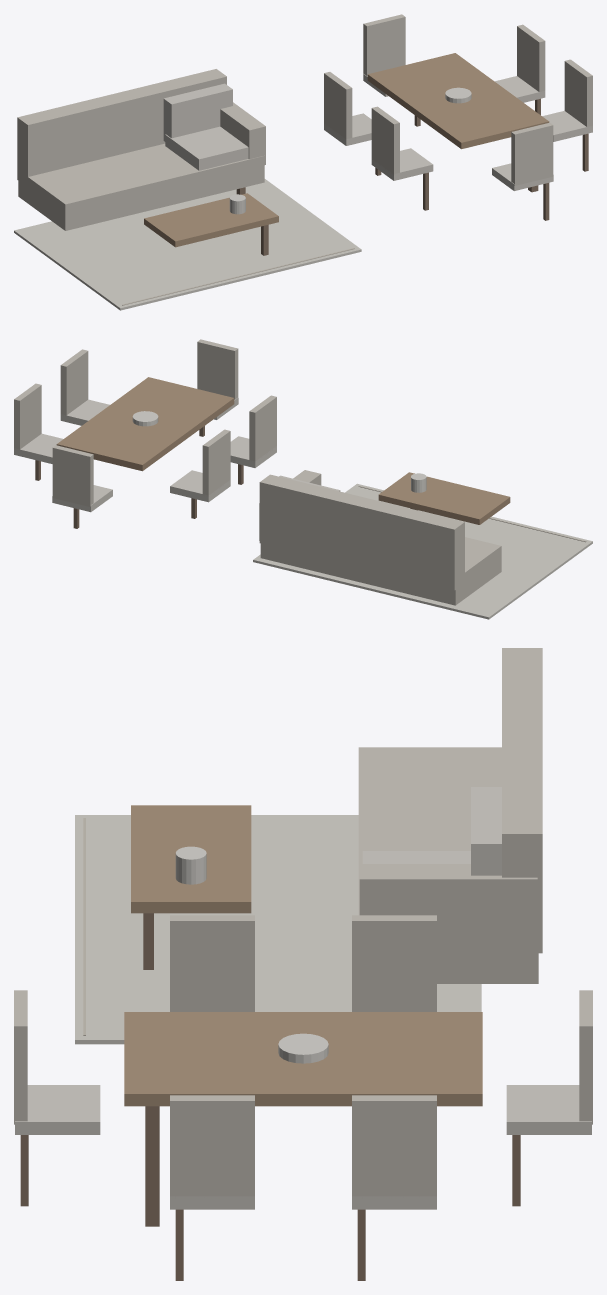
Rendered from living-dining.glb.
3 renders of one model, top to bottom at view 1: azimuth 30°, elevation 25°; view 2: azimuth 150°, elevation 25°; view 3: azimuth 270°, elevation 25°, orthographic. The views are drawn at different scales.
Parts seen in each view (by area): view 1: living rug, sofa base, sofa back, dining table top, coffee table top, sofa back cushion, sofa seat cushion, end near back, end far back, left1 back, left0 back, right1 back (+8 smaller); view 2: sofa back, dining table top, living rug, sofa base, coffee table top, end far back, end near back, left0 back, right1 back, left1 back, right0 back, left0 seat (+4 smaller); view 3: living rug, dining table top, sofa base, sofa armrest, coffee table top, sofa back, right0 back, right1 back, left0 back, left1 back, end far seat, end near seat (+9 smaller).
Boxes of the visible parts, x1,y1,x2,y2 form: living rug: [14, 179, 361, 310]; sofa base: [18, 143, 264, 230]; sofa back: [17, 69, 226, 186]; dining table top: [367, 53, 549, 149]; coffee table top: [144, 193, 278, 247]; sofa back cushion: [163, 83, 232, 141]; sofa seat cushion: [165, 126, 248, 170]; end near back: [511, 122, 553, 185]; end far back: [363, 14, 405, 75]; left1 back: [371, 106, 399, 175]; left0 back: [324, 72, 352, 140]; right1 back: [564, 59, 592, 127]; sofa back: [259, 474, 464, 590]; dining table top: [56, 377, 234, 471]; living rug: [253, 483, 592, 619]; sofa base: [260, 537, 501, 605]; coffee table top: [378, 472, 510, 524]; end far back: [52, 445, 93, 506]; end near back: [197, 339, 238, 399]; left0 back: [202, 429, 230, 496]; right1 back: [60, 349, 88, 416]; left1 back: [249, 395, 276, 462]; right0 back: [14, 383, 41, 450]; left0 seat: [170, 470, 230, 502]; living rug: [75, 815, 481, 1044]; dining table top: [124, 1012, 482, 1106]; sofa base: [358, 747, 538, 983]; sofa armrest: [359, 864, 537, 952]; coffee table top: [131, 805, 251, 913]; sofa back: [502, 648, 542, 953]; right0 back: [352, 1095, 436, 1198]; right1 back: [170, 1095, 254, 1198]; left0 back: [352, 915, 436, 1011]; left1 back: [170, 915, 254, 1011]; end far seat: [506, 1085, 591, 1134]; end near seat: [15, 1085, 100, 1134].
Size of the model in its own units: 5.67 by 1.08 by 2.99.
